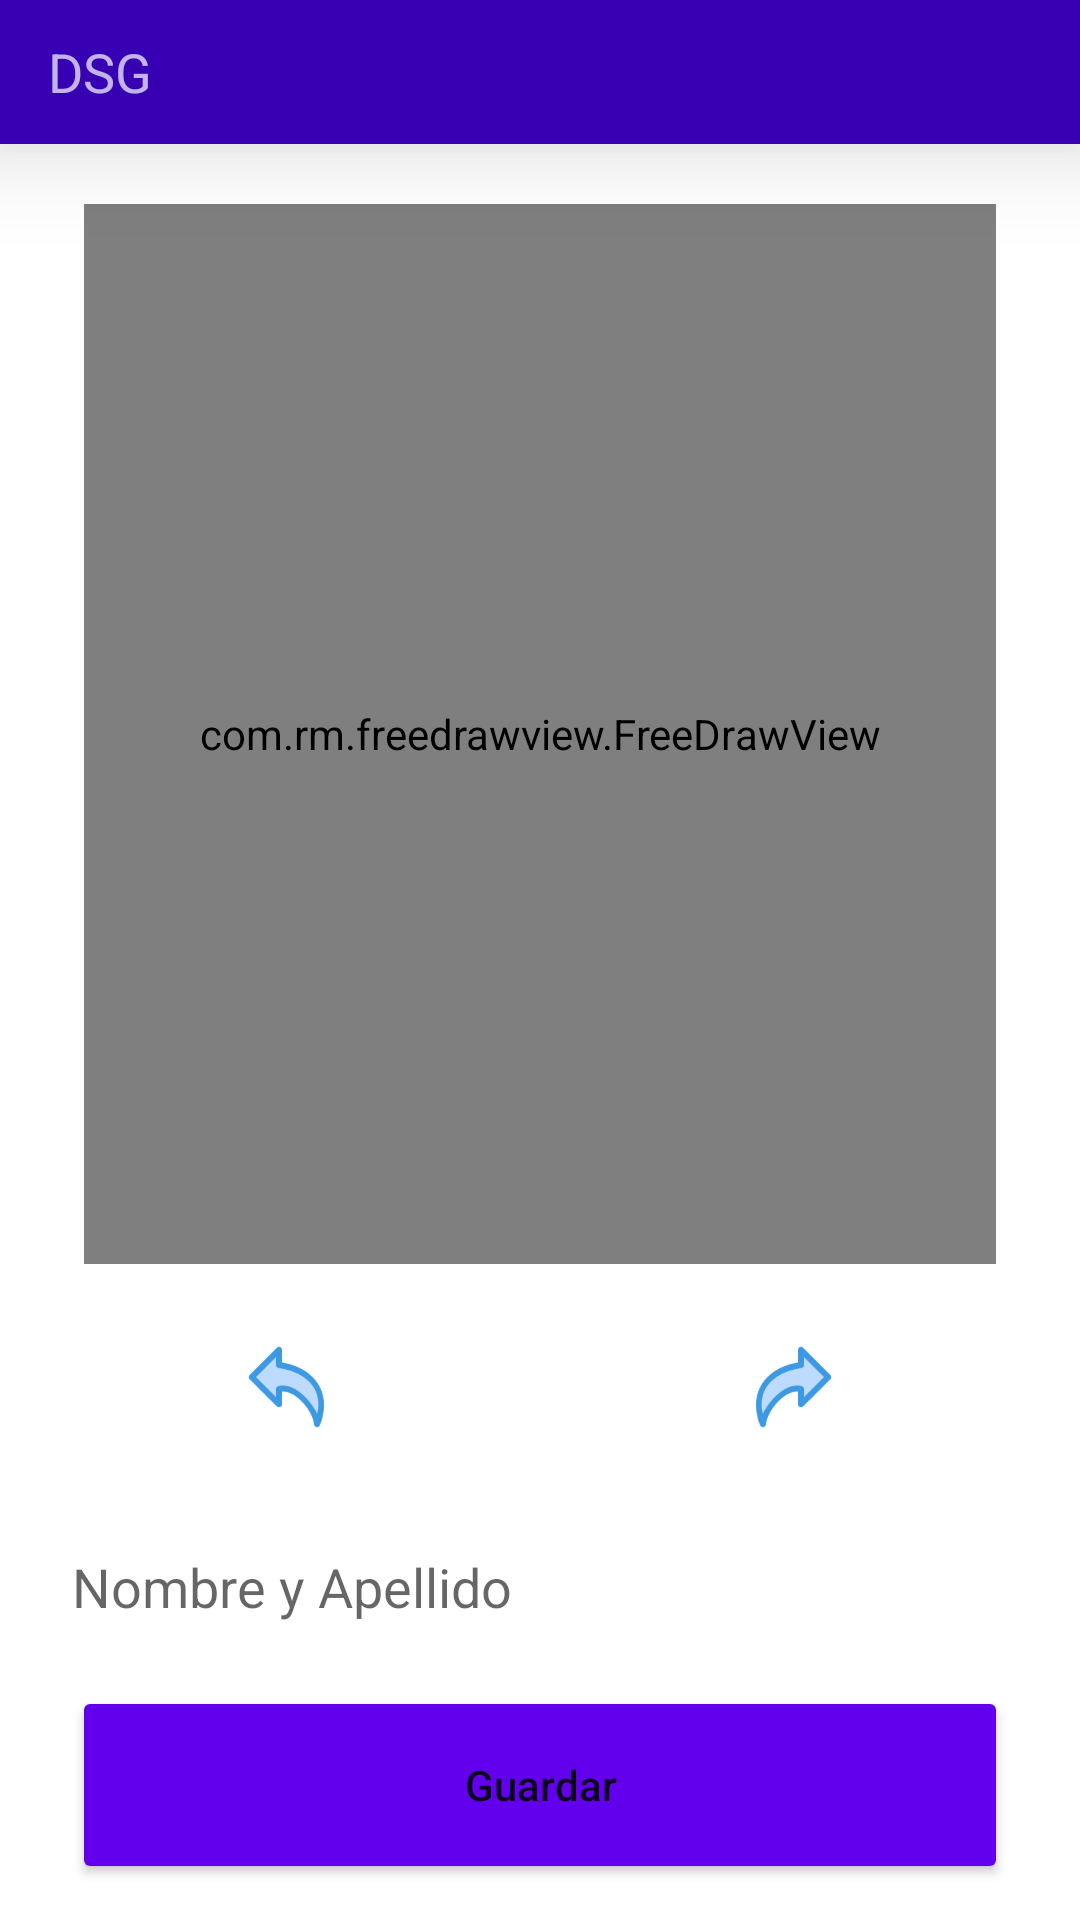

Where icons sit on this 1080px×1920px app screen, as [left=x1, top=y1, right=x2, bottom=y2]:
redo: [left=756, top=1346, right=832, bottom=1428]
undo: [left=248, top=1346, right=324, bottom=1428]
